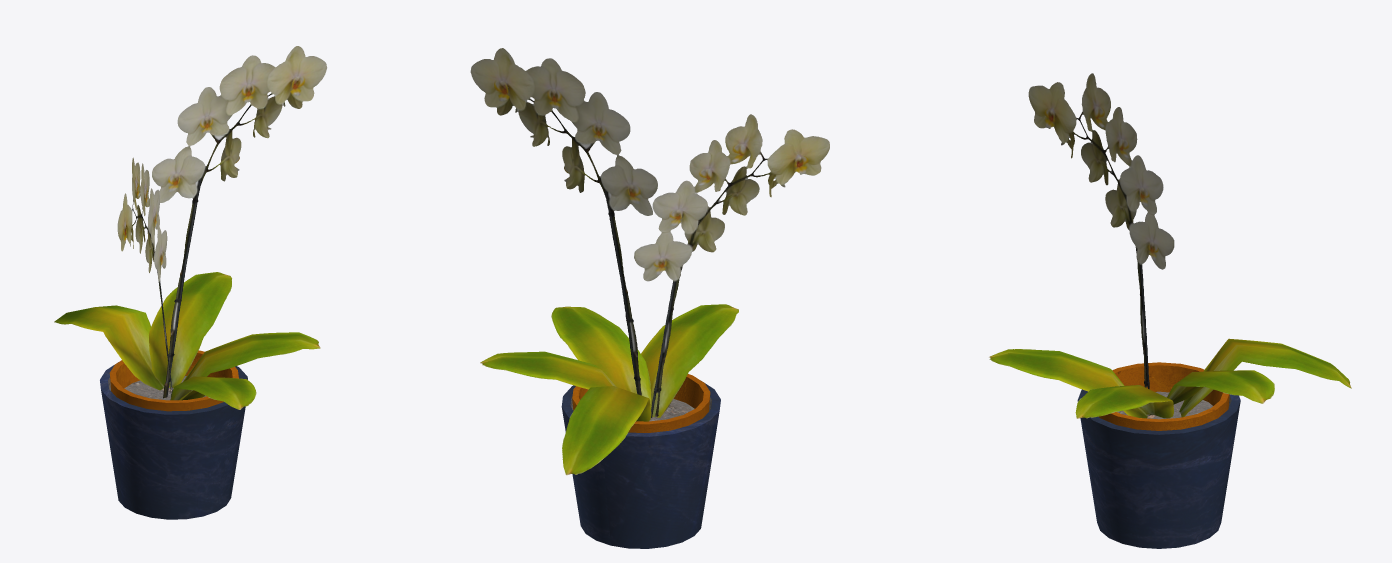
Rendered from planta_3.fbx.
The picture shows the model from 3 angles, left to right: view 1: azimuth 30°, elevation 25°; view 2: azimuth 150°, elevation 25°; view 3: azimuth 270°, elevation 25°; orthographic projection. The views are drawn at different scales.
Parts seen in each view (by area): view 1: polySurface12; view 2: polySurface12; view 3: polySurface12.
Part boxes in pixels (<box>): polySurface12: <box>54,46,327,519</box>; polySurface12: <box>470,48,829,548</box>; polySurface12: <box>989,73,1351,548</box>.
Size of the model in its own units: 19.6 by 20.68 by 17.
